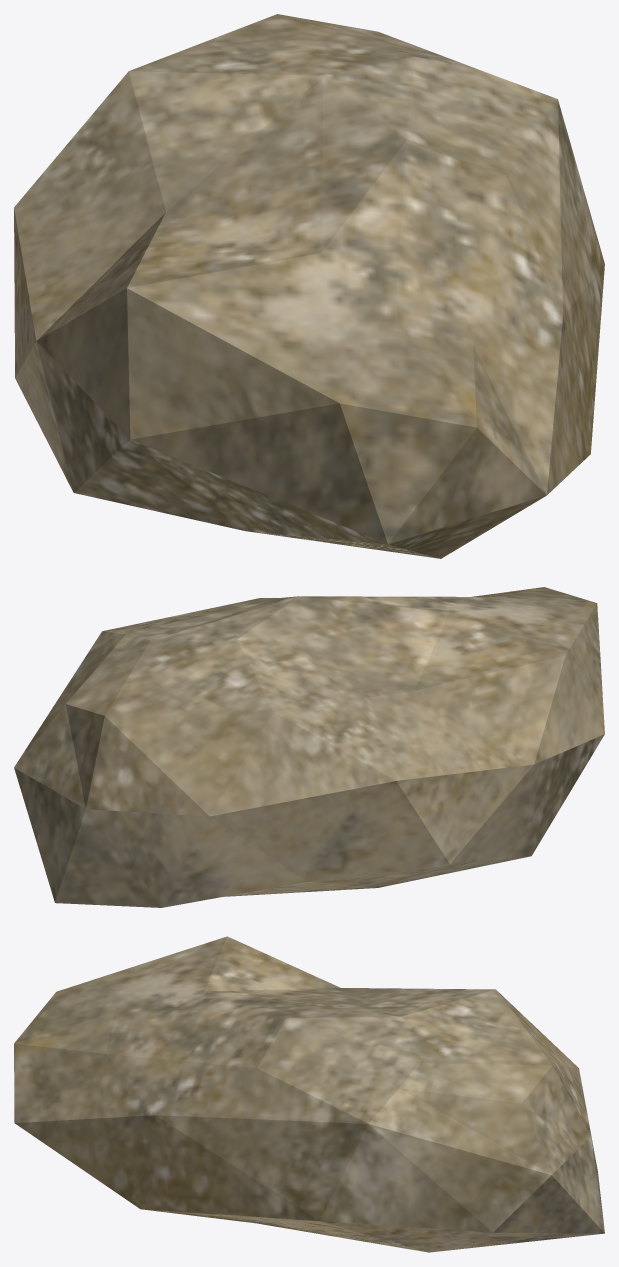
The model's file is Rock_1.fbx.
3 views of the same model, one above another, from view 1: azimuth 30°, elevation 25°; view 2: azimuth 150°, elevation 25°; view 3: azimuth 270°, elevation 25° (orthographic). The views are drawn at different scales.
Visible parts, largest first — view 1: Icosphere.001; view 2: Icosphere.001; view 3: Icosphere.001.
Boxes of the visible parts, x1,y1,x2,y2 form: Icosphere.001: [14, 14, 604, 558]; Icosphere.001: [14, 587, 604, 907]; Icosphere.001: [14, 936, 604, 1252].
Size of the model in its own units: 201 by 105 by 270.
